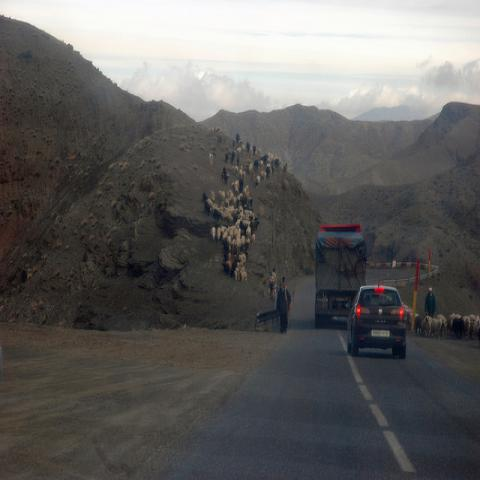car: (345, 286, 407, 358)
truck: (315, 221, 368, 330)
